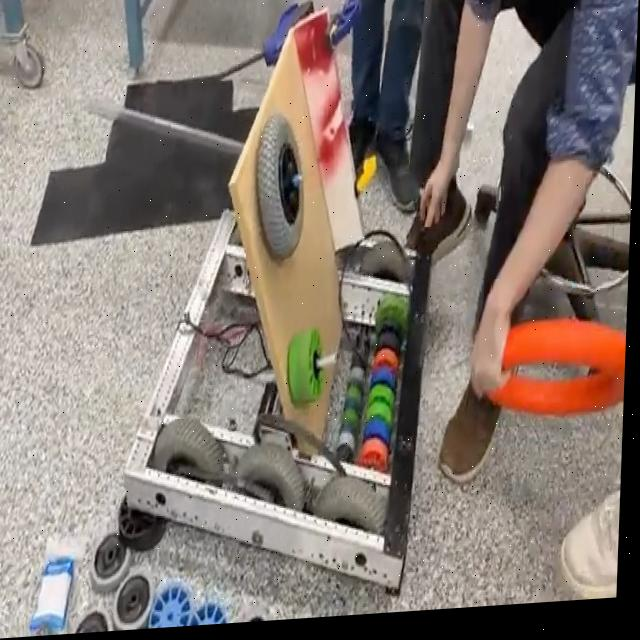note: (483, 316, 628, 435)
